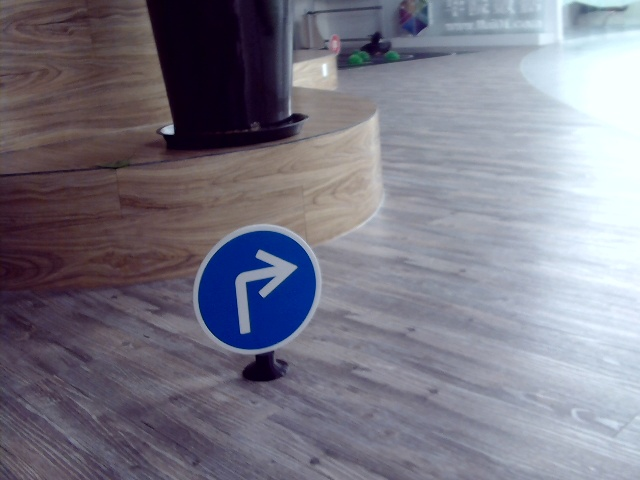turn_right: (227, 252, 298, 334)
